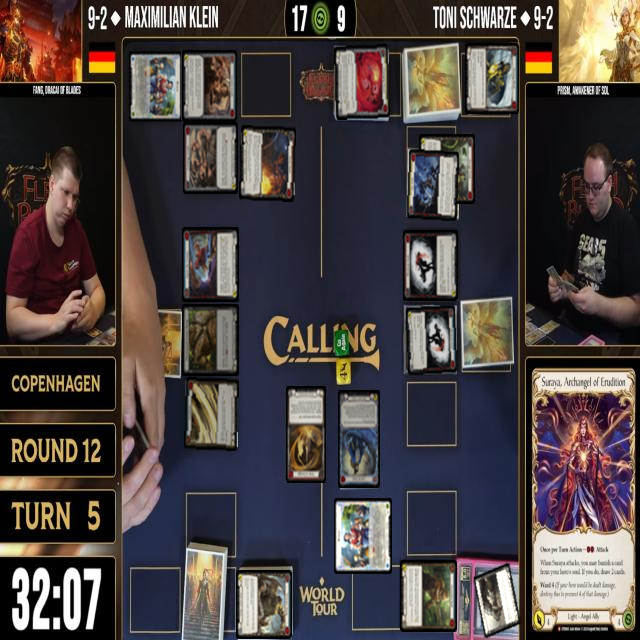Blackout_Kick_WTR089: (403, 230, 459, 302)
Blackout_Kick_WTR091: (405, 304, 458, 376)
Bravo_WTR039: (334, 498, 392, 574), (128, 50, 183, 124)
Cartilage_Crush_WTR060: (183, 122, 239, 194)
Cranial_Crush_WTR045: (182, 51, 238, 122)
Driving_Blade_WTR146: (466, 44, 520, 114)
Emerging_Power_WTR070: (334, 44, 391, 120)
Flic_Flak_WTR093: (406, 148, 461, 222)
Heartened_Cross_Strap_WTR152: (183, 304, 240, 376)
Ironrot_Gauntlet_WTR157: (473, 562, 521, 640)
Lord_of_Wind_WTR081: (338, 391, 381, 488)
Nimblism_WTR220: (184, 378, 240, 452)
Open_the_Center_WTR097: (182, 228, 240, 302)
Pack_Hunt_WTR023: (240, 125, 296, 202)
Savage_Feast_WTR014: (420, 134, 476, 204)
Stroke_of_Foresight_WTR138: (286, 386, 326, 484)
Wounded_Bull_WTR202: (400, 560, 457, 632)
Wrecker_Romp_WTR031: (237, 570, 293, 640)
